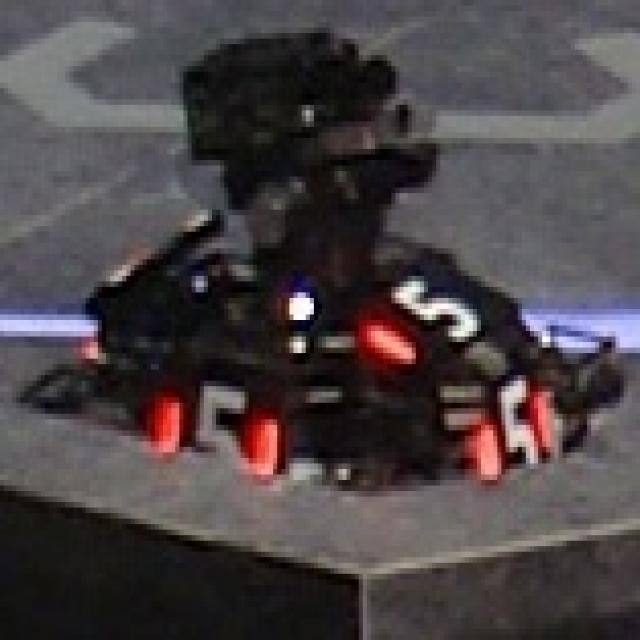R5: (138, 375, 290, 486), (347, 254, 489, 364), (464, 367, 558, 472)
